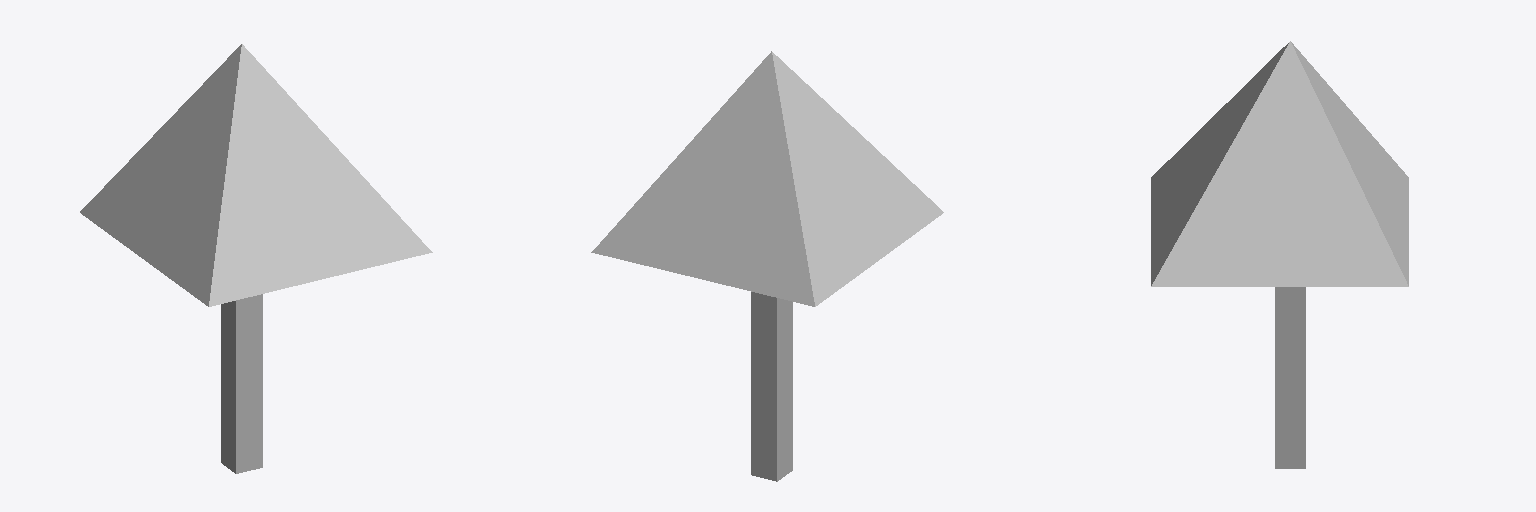
The model's file is tree.obj.
3 views of the same model, side by side, from view 1: azimuth 30°, elevation 25°; view 2: azimuth 150°, elevation 25°; view 3: azimuth 270°, elevation 25° (orthographic).
Visible parts, largest first — view 1: Tree; view 2: Tree; view 3: Tree.
Part boxes in pixels (left/top/right/bottom): Tree: left=80, top=44, right=432, bottom=473; Tree: left=591, top=51, right=943, bottom=481; Tree: left=1151, top=41, right=1408, bottom=468.
Size of the model in its own units: 2.5 by 4.5 by 2.5.